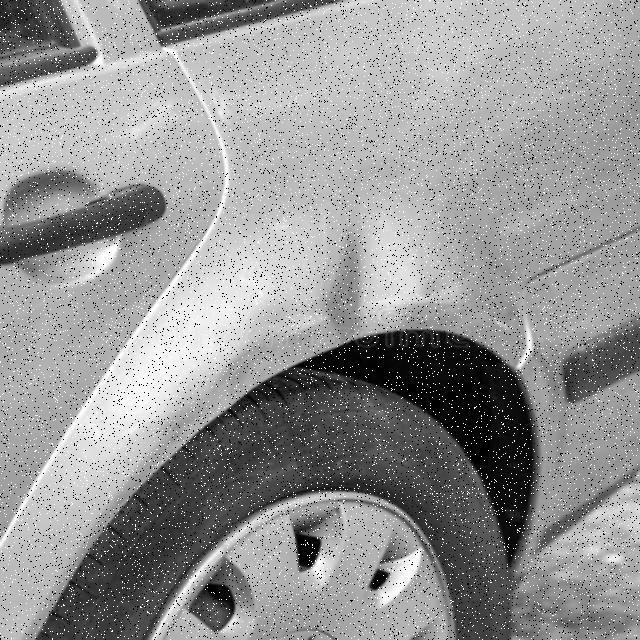quaterpanel-dent: (152, 7, 629, 487)
